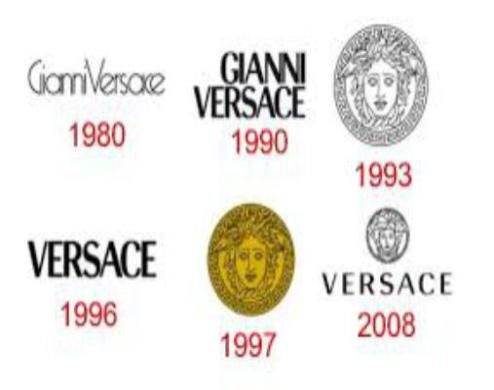VERSACE: (194, 175, 303, 323), (313, 193, 467, 297), (331, 10, 442, 153)
